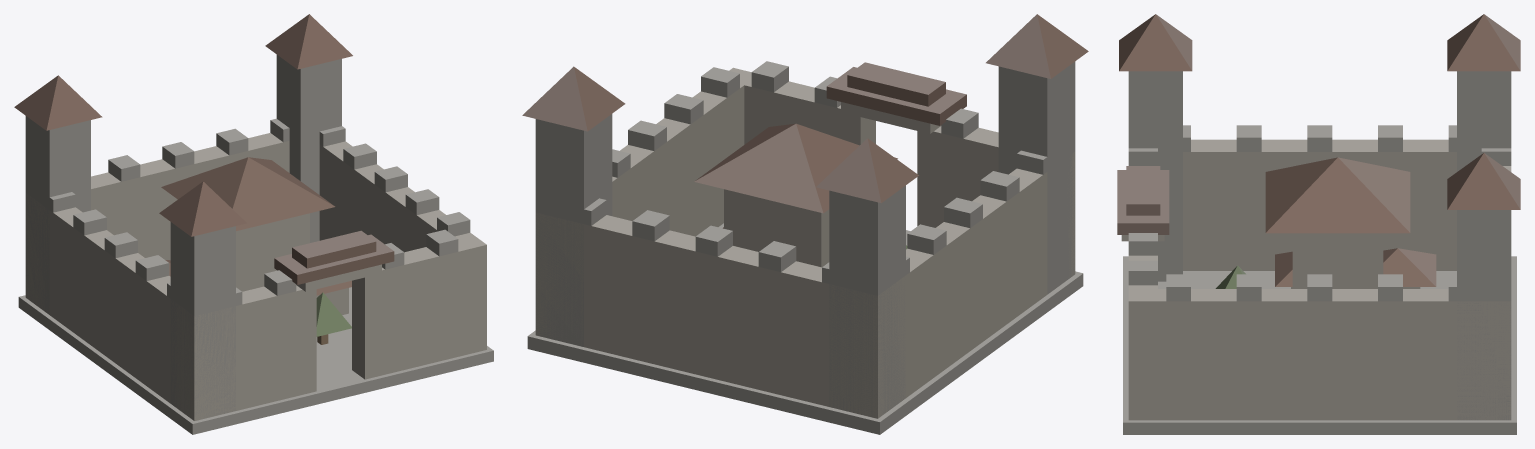
File: commandery-mid.gltf
3 views of the same model, side by side, from view 1: azimuth 30°, elevation 25°; view 2: azimuth 150°, elevation 25°; view 3: azimuth 270°, elevation 25° (orthographic). The views are drawn at different scales.
Visible parts, largest first — view 1: building-commandery-mid; view 2: building-commandery-mid; view 3: building-commandery-mid.
Part boxes in pixels (x1,y1,x2,y2): building-commandery-mid: (14,14,493,434); building-commandery-mid: (522,14,1088,434); building-commandery-mid: (1117,14,1520,434).
Bounding box in the file's own units: 0.887 × 0.654 × 0.891.
